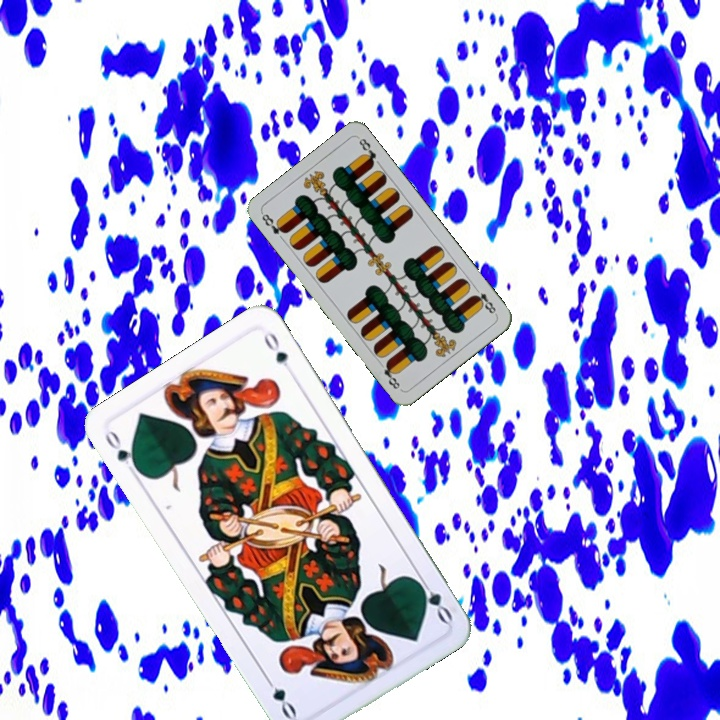E8: (257, 209, 290, 244), (469, 282, 499, 318)
GO: (410, 572, 455, 626), (100, 426, 144, 480)
